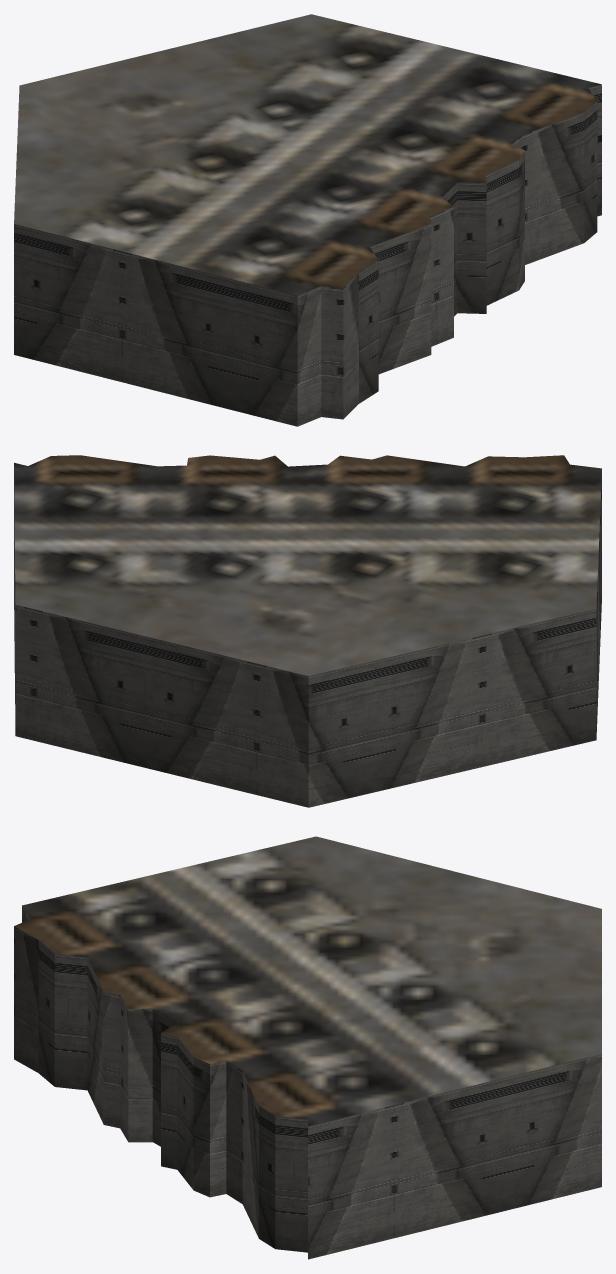
Rendered from fortress_hard_a_51.glb.
The picture shows the model from 3 angles, top to bottom: view 1: azimuth 30°, elevation 25°; view 2: azimuth 150°, elevation 25°; view 3: azimuth 270°, elevation 25°; orthographic projection.
Visible parts, largest first — view 1: buildings/saxarba/fortress_hard/fortress_hard_a_51; view 2: buildings/saxarba/fortress_hard/fortress_hard_a_51; view 3: buildings/saxarba/fortress_hard/fortress_hard_a_51.
Boxes of the visible parts, box(x1,y1,x2,y2) form: buildings/saxarba/fortress_hard/fortress_hard_a_51: box(14, 14, 601, 426); buildings/saxarba/fortress_hard/fortress_hard_a_51: box(14, 455, 601, 807); buildings/saxarba/fortress_hard/fortress_hard_a_51: box(14, 836, 601, 1259).
Bounding box in the file's own units: 84 × 18 × 72.
